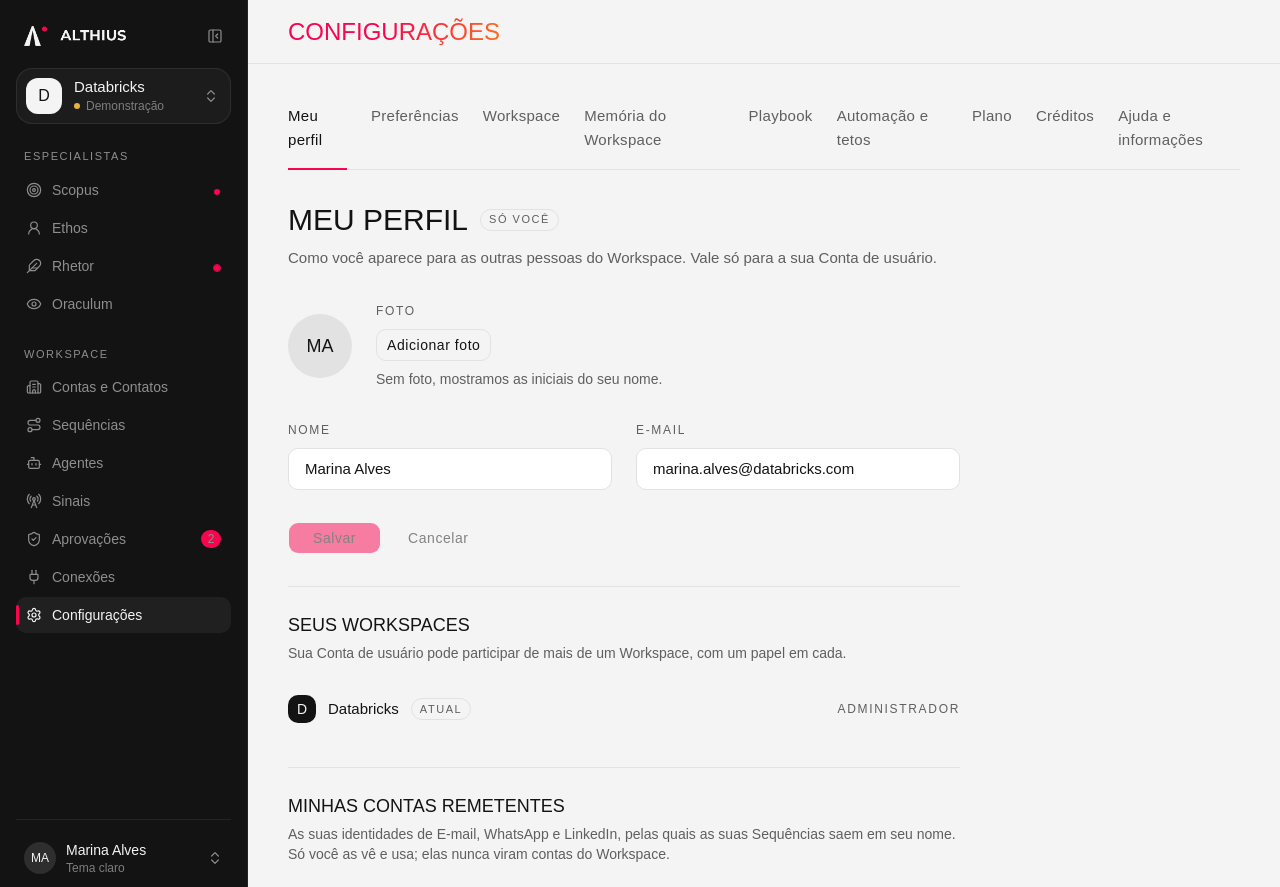
Test: Meu perfil › cancelar descarta as alterações não salvas
This screenshot has width=1280, height=887.
Replace the text in the field labelled "Nome" with "Outro nome": (450, 469) [288,448,612,490]
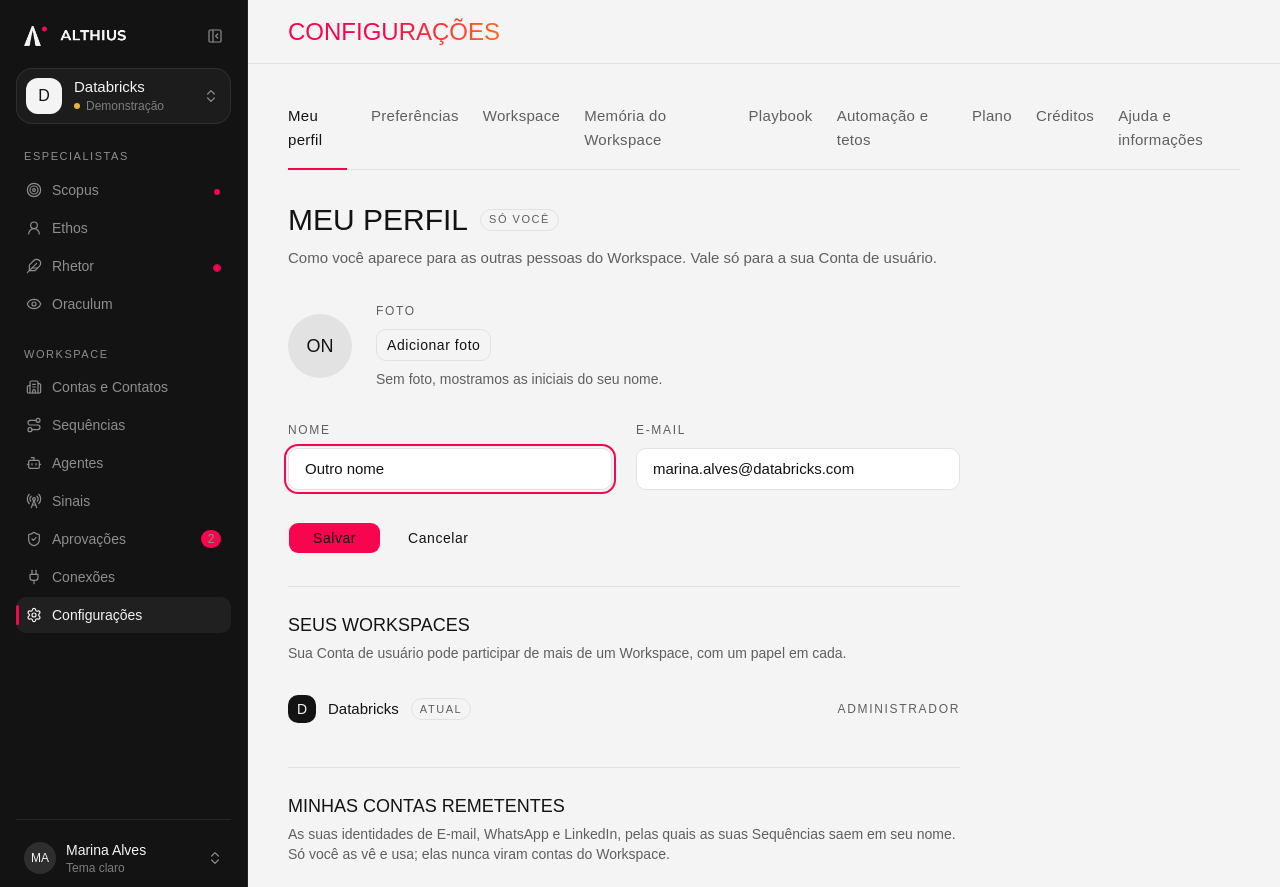
Click the button "Cancelar": click(438, 538) [397,522,480,554]
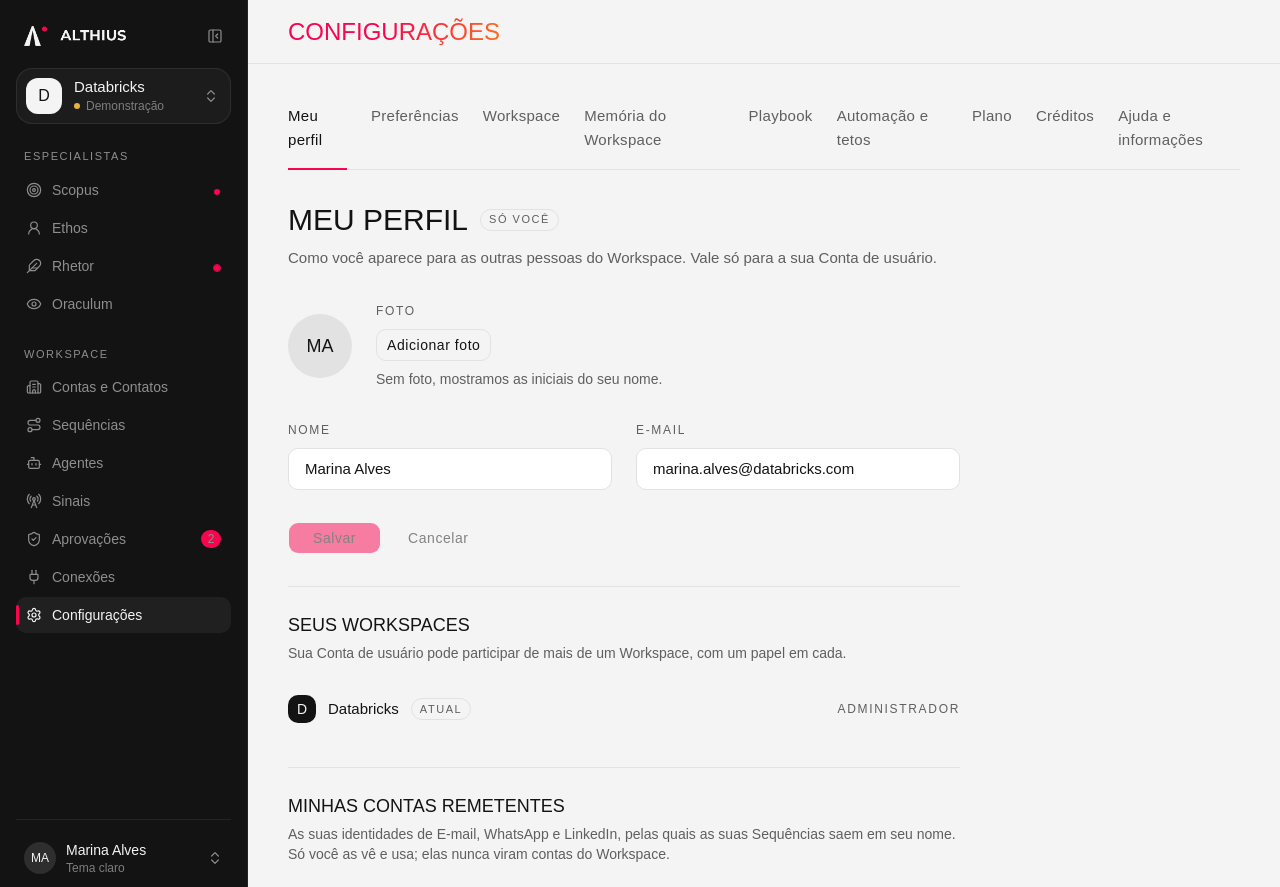
Expected: the field labelled "Nome" holds "Marina Alves", [288,448,612,490]
